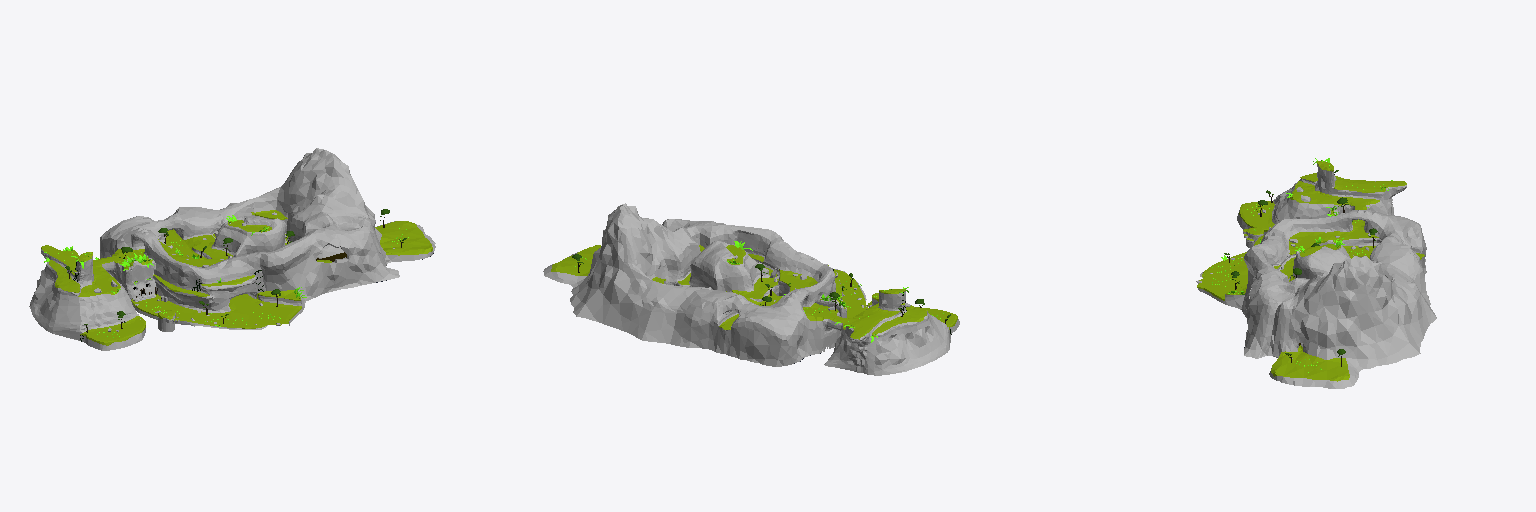
Rendered from Landscape.obj.
The picture shows the model from 3 angles: view 1: azimuth 30°, elevation 25°; view 2: azimuth 150°, elevation 25°; view 3: azimuth 270°, elevation 25°; orthographic projection.
Visible parts, largest first — view 1: Water.002_Plane.002; view 2: Water.002_Plane.002; view 3: Water.002_Plane.002.
Boxes of the visible parts, x1,y1,x2,y2 form: Water.002_Plane.002: [29, 148, 435, 350]; Water.002_Plane.002: [543, 203, 959, 375]; Water.002_Plane.002: [1196, 158, 1436, 388].
Size of the model in its own units: 120 by 30.96 by 83.75.